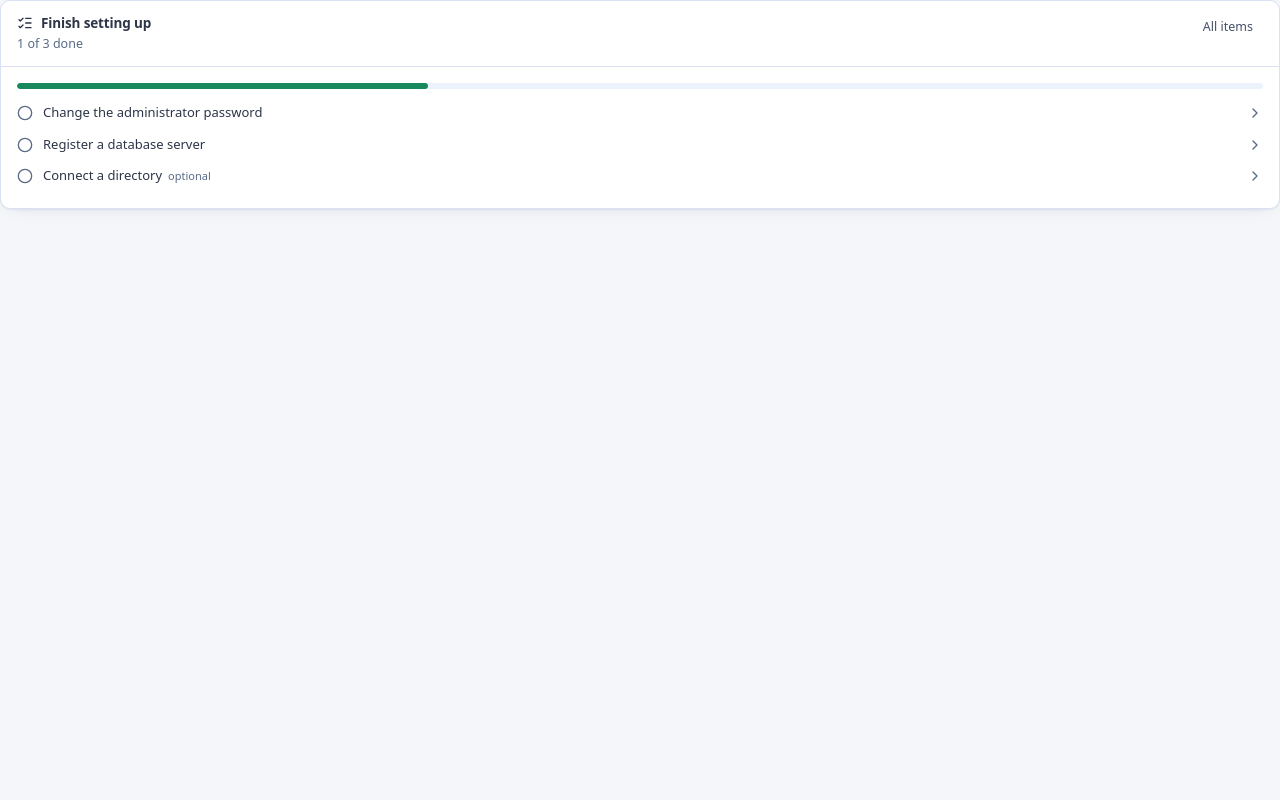
Scenario: platform setup › checklist card lists open items with links
Expected: the text "1 of 3 done" is shown, x1=17 y1=35 x2=83 y2=52
Click the button "Change the administrator password": (153,112) x1=9 y1=97 x2=1271 y2=128
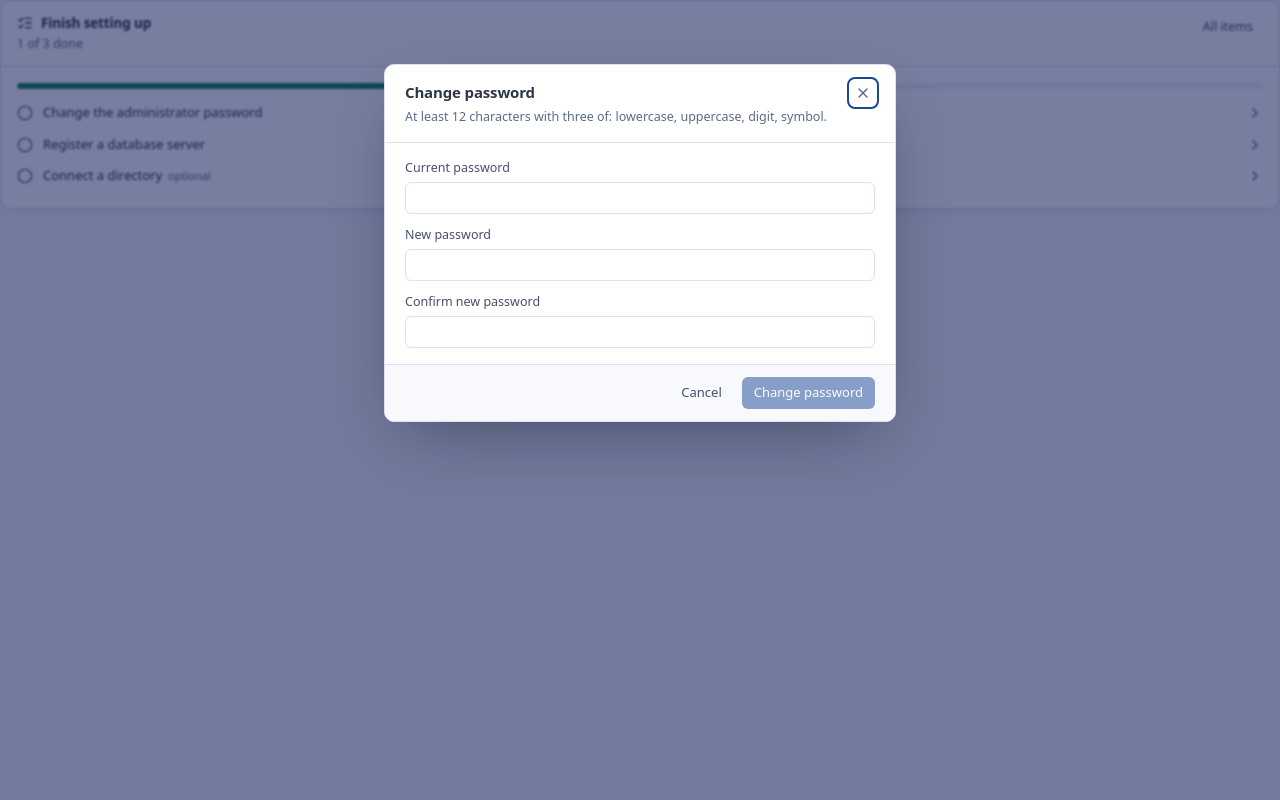
Expected: the password field labelled "Current password" is shown, x1=405 y1=182 x2=875 y2=214
